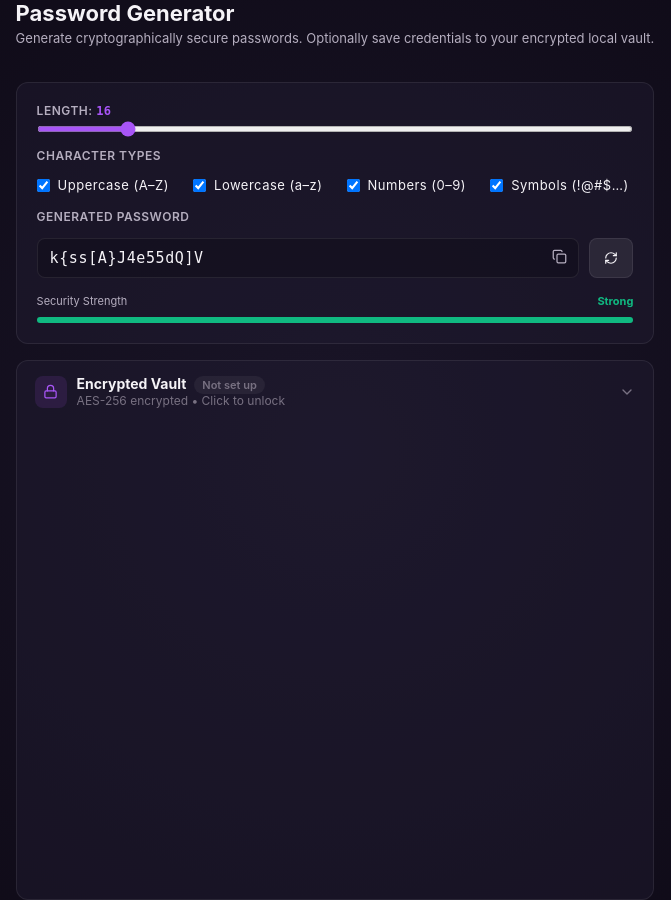
Test: PasswordManager Component › toggles character sets and regenerates password
Note: Toggle both off
Click the 3rd checkbox named "numbers" at point(353, 185), box [346,178,360,192]
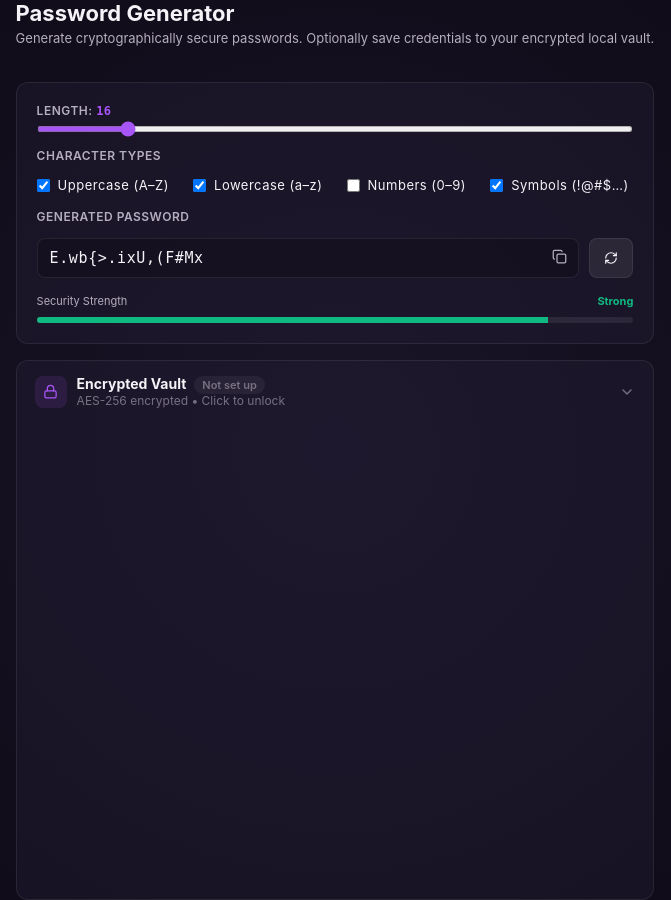
Click the 4th checkbox named "symbols" at point(497, 185), box [490,178,503,192]
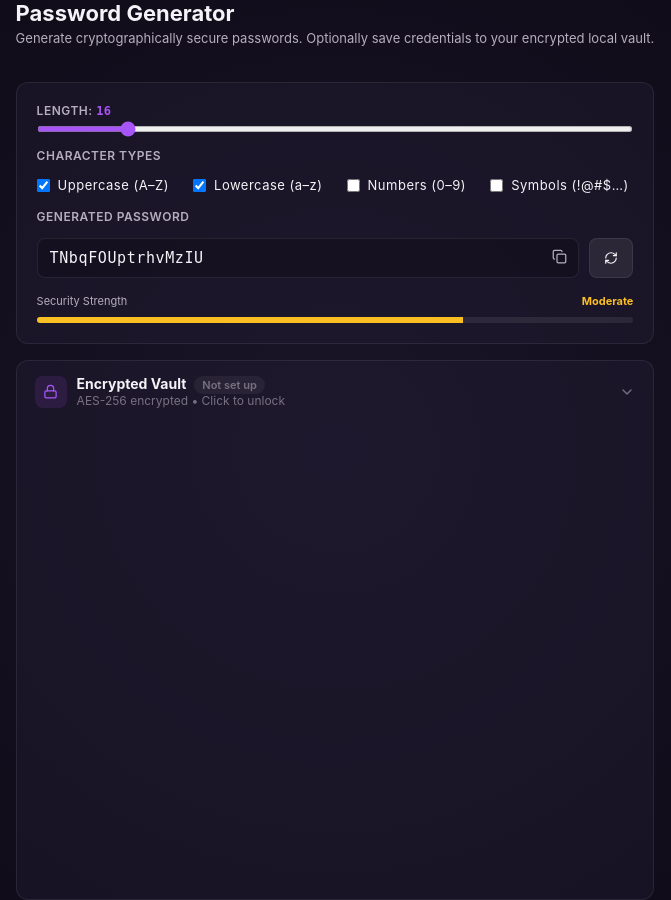
Note: Click regenerate
Click the button titled "Regenerate" at point(611, 258), box [589,238,633,278]
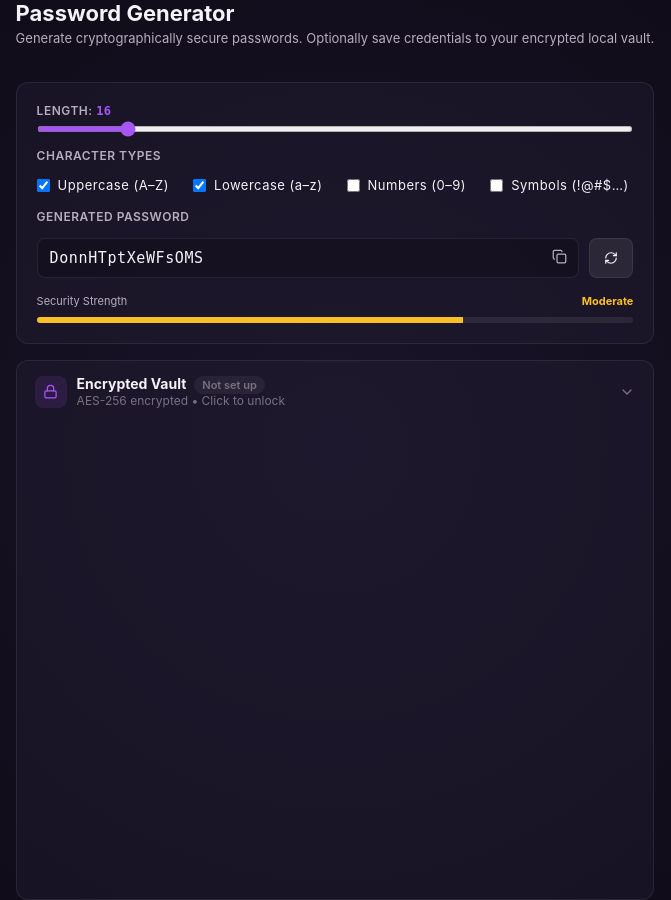
Expected: the field named "generated password" is not empty, [37,238,579,278]
